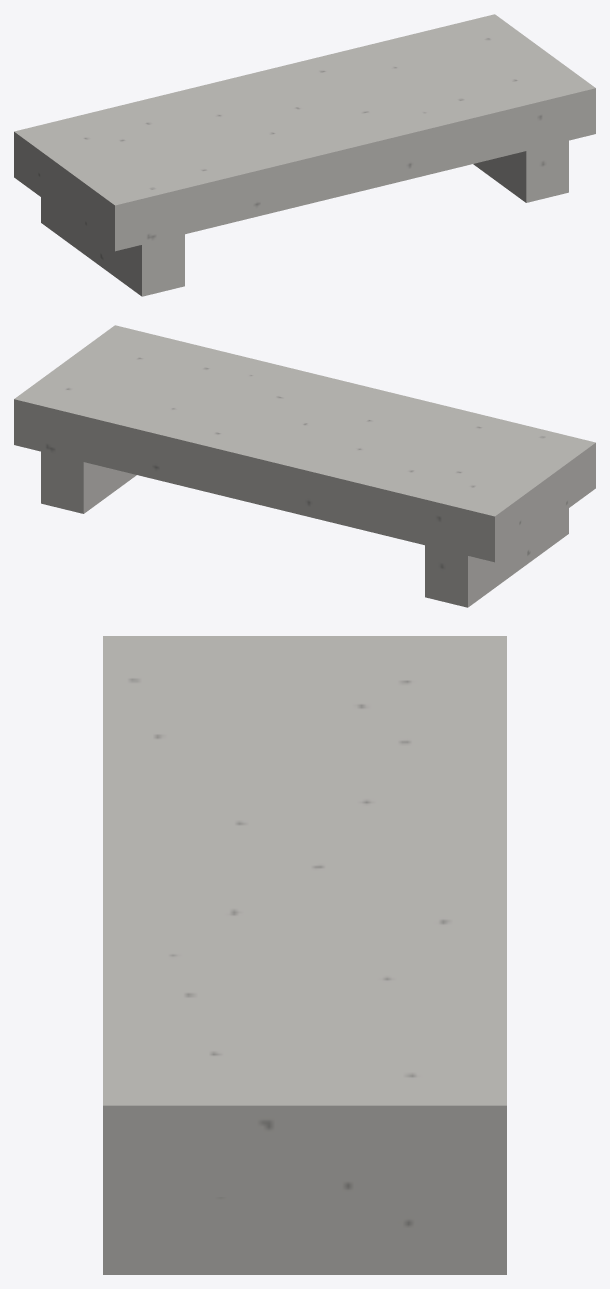
File: bench.glb
3 renders of one model, top to bottom at view 1: azimuth 30°, elevation 25°; view 2: azimuth 150°, elevation 25°; view 3: azimuth 270°, elevation 25°, orthographic. The views are drawn at different scales.
Visible parts, largest first — view 1: Cube.024; view 2: Cube.024; view 3: Cube.024.
Boxes of the visible parts, x1,y1,x2,y2 form: Cube.024: (14, 14, 595, 296); Cube.024: (14, 325, 595, 607); Cube.024: (103, 636, 506, 1274).
Bounding box in the file's own units: 2.53 × 0.4921 × 0.9214.
Materials: 1 (1 with a texture image).
